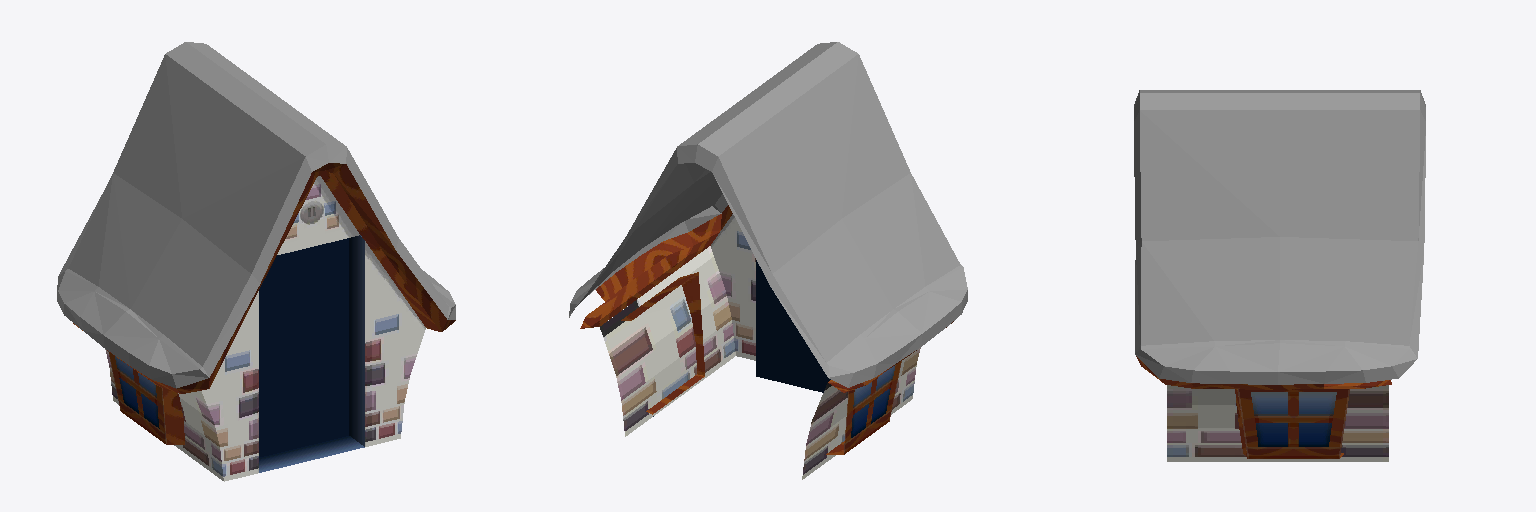
3 views of the same model, side by side, from view 1: azimuth 30°, elevation 25°; view 2: azimuth 150°, elevation 25°; view 3: azimuth 270°, elevation 25° (orthographic).
Parts seen in each view (by area): view 1: vsn_mesh_1__mesh_1_.001, vsn_mesh_0__mesh_0_.001; view 2: vsn_mesh_1__mesh_1_.001, vsn_mesh_0__mesh_0_.001; view 3: vsn_mesh_1__mesh_1_.001, vsn_mesh_0__mesh_0_.001.
Part boxes in pixels (bbox=[...]): vsn_mesh_1__mesh_1_.001: bbox=[57, 42, 455, 388]; vsn_mesh_0__mesh_0_.001: bbox=[73, 163, 455, 481]; vsn_mesh_1__mesh_1_.001: bbox=[569, 42, 967, 387]; vsn_mesh_0__mesh_0_.001: bbox=[580, 205, 953, 479]; vsn_mesh_1__mesh_1_.001: bbox=[1134, 90, 1425, 384]; vsn_mesh_0__mesh_0_.001: bbox=[1136, 356, 1391, 461].
Bounding box in the file's own units: 0.8952 × 0.9092 × 0.74.
Materials: 2 (1 with a texture image).